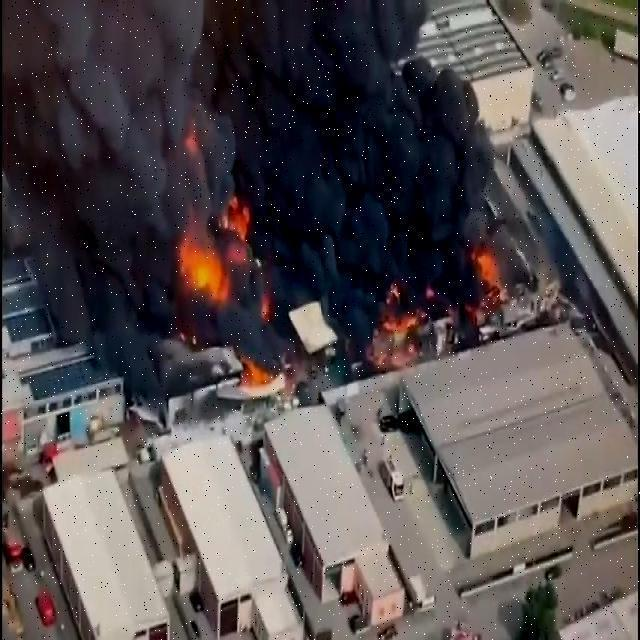smoke: (5, 3, 478, 185), (13, 199, 178, 381)
